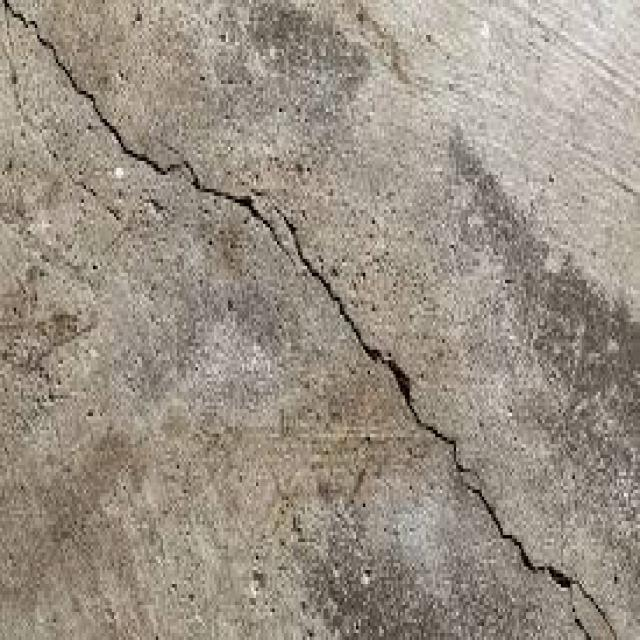crack: (284, 218, 470, 470), (3, 0, 182, 175), (468, 487, 618, 639), (184, 161, 296, 263), (569, 589, 592, 638)
